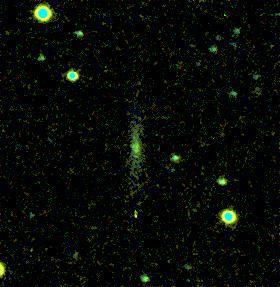star: (122, 202, 152, 232)
